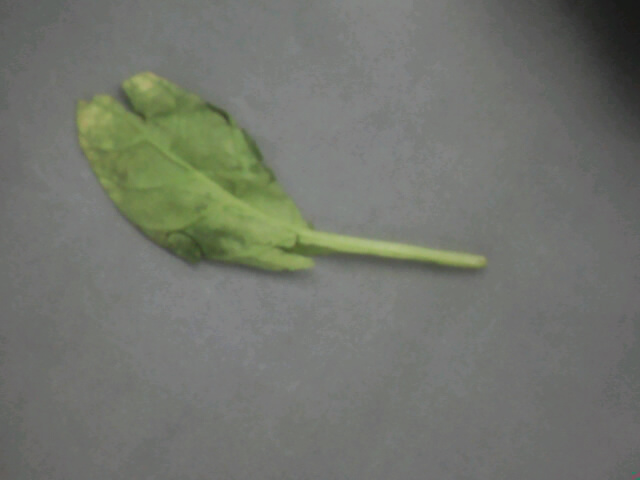yellow: (63, 63, 398, 287)
